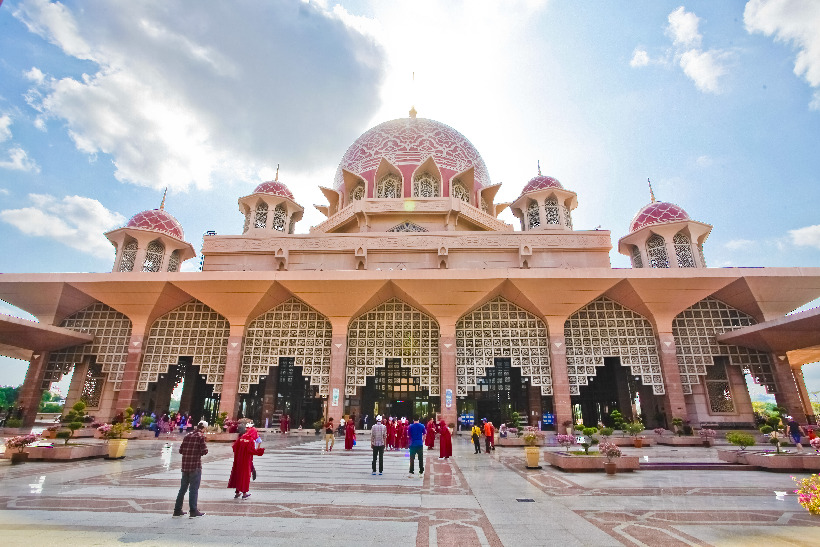Mosque: (6, 108, 801, 452)
